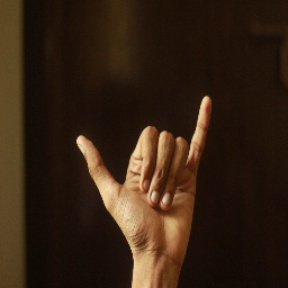J: (70, 90, 217, 263)
